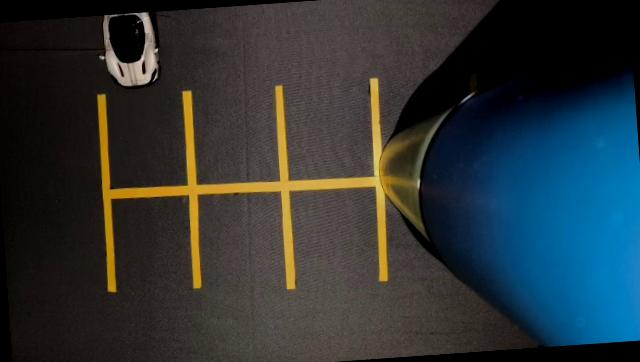toy_car: (64, 8, 200, 110)
